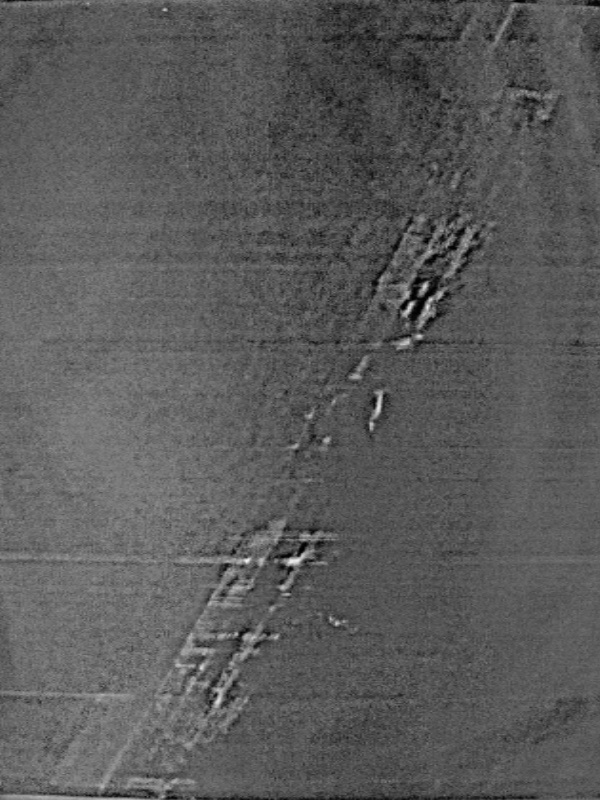splice_vulcanized: (58, 2, 554, 796)
